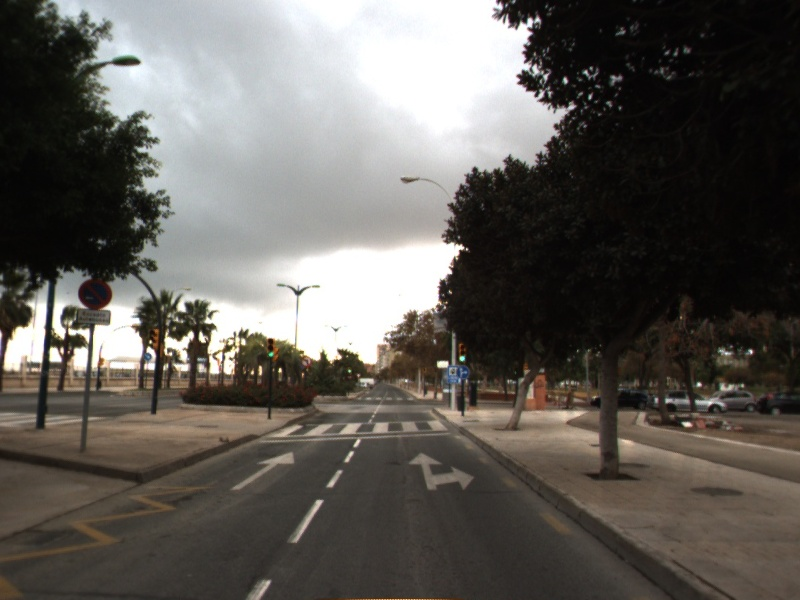STRAIGHT: (228, 449, 296, 492)
STRAIGHT_RIGHT: (407, 450, 479, 494)
